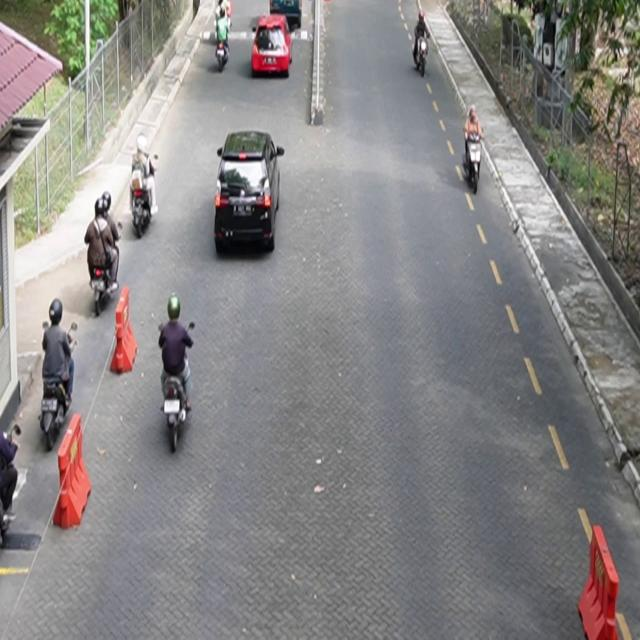car: (215, 130, 285, 255)
